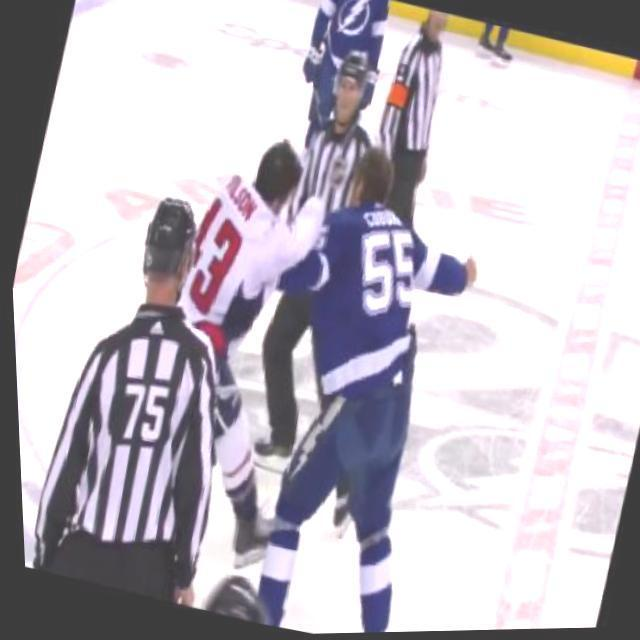fight: (82, 94, 520, 638)
